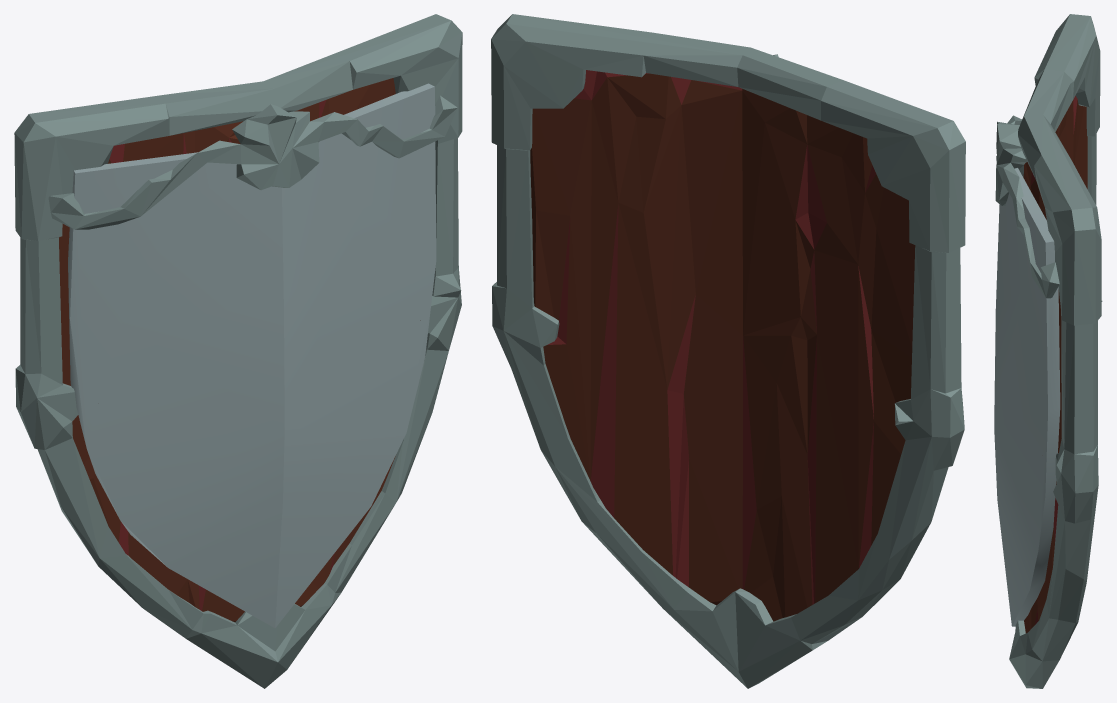
The model's file is MCastle_Shield_02.FBX.
3 renders of one model, left to right at view 1: azimuth 30°, elevation 25°; view 2: azimuth 150°, elevation 25°; view 3: azimuth 270°, elevation 25°, orthographic. The views are drawn at different scales.
Parts seen in each view (by area): view 1: MCastle_Shield_02_LOD0; view 2: MCastle_Shield_02_LOD0; view 3: MCastle_Shield_02_LOD0.
Boxes of the visible parts, <box> form: MCastle_Shield_02_LOD0: <box>14,14,462,688</box>; MCastle_Shield_02_LOD0: <box>491,14,965,688</box>; MCastle_Shield_02_LOD0: <box>994,14,1102,688</box>.
Size of what is drawn, in the model's own units: 1.65 by 2.14 by 0.3642.
